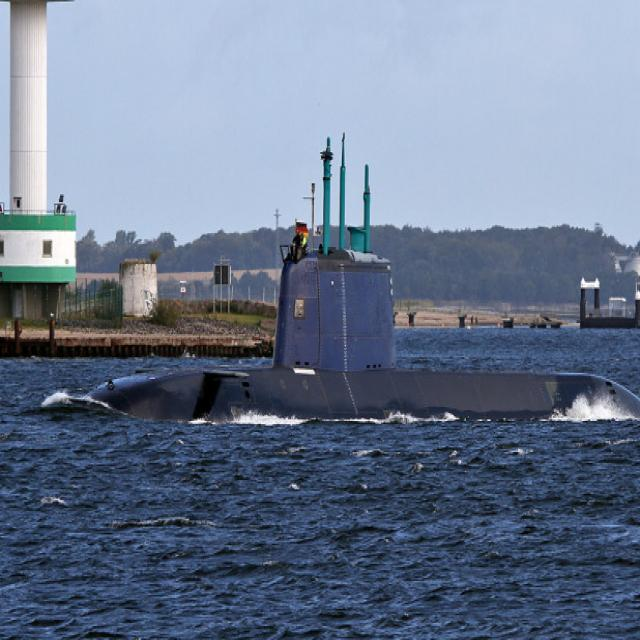submarine: (51, 75, 640, 420)
